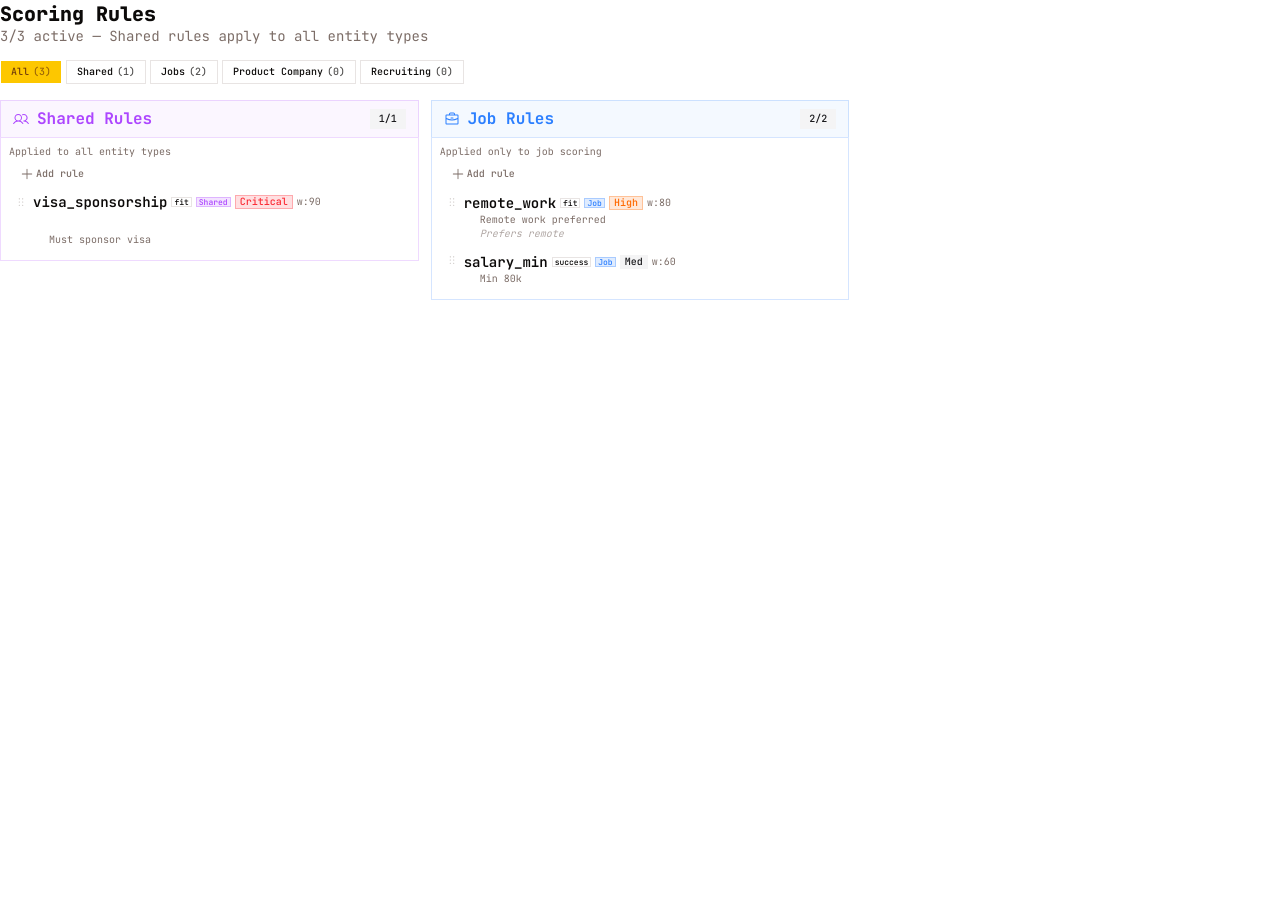
Test: RulesTab › opens the Add Rule drawer from the right when clicking Add rule
This screenshot has width=1280, height=900.
Click the button "Add rule" below "Applied to all entity types".
click(60, 174)  # box [9,162,410,186]
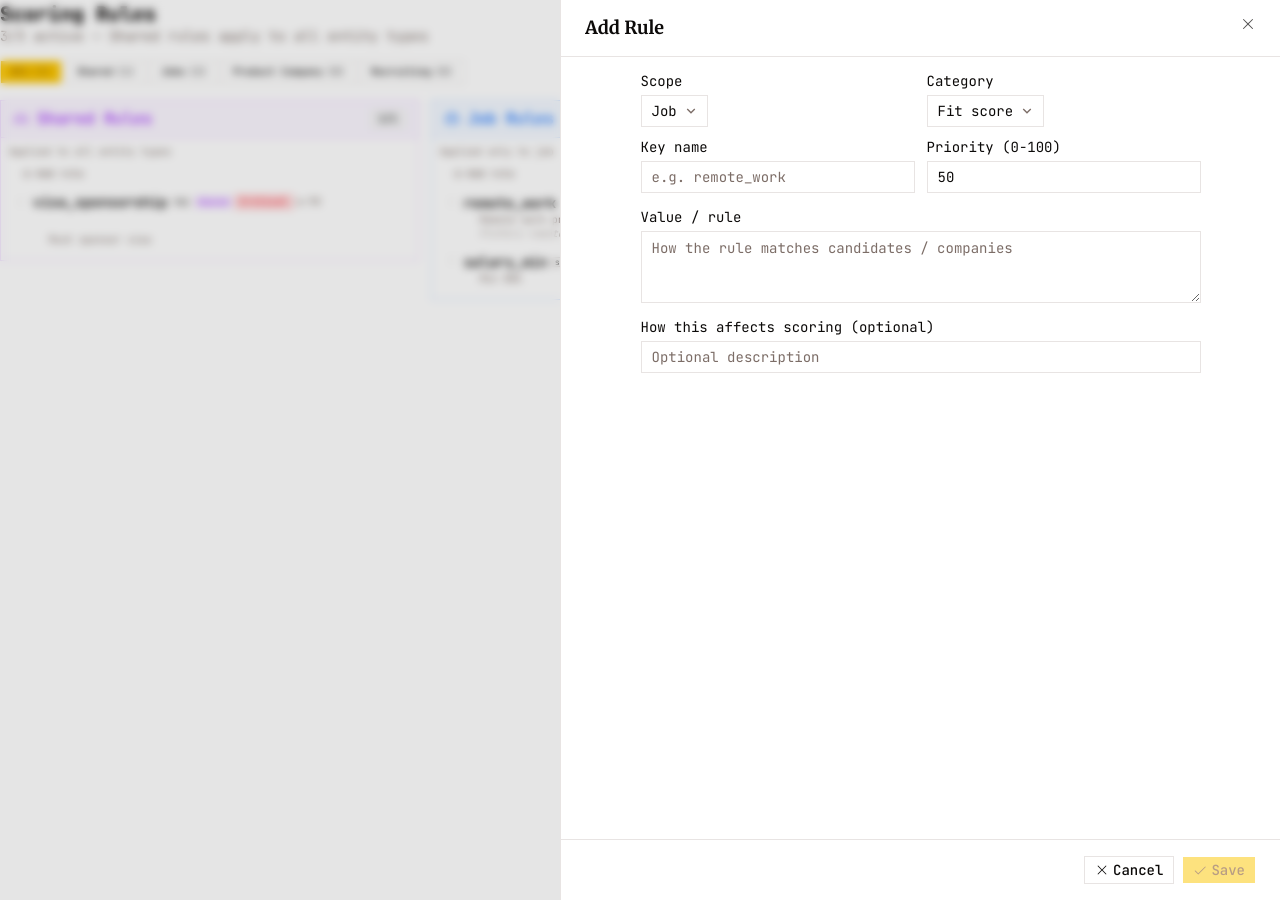
Result: the heading "Add Rule" is shown at [585,16,664,40]
Result: the field with placeholder "e.g. remote_work" is shown at [640,161,914,193]
